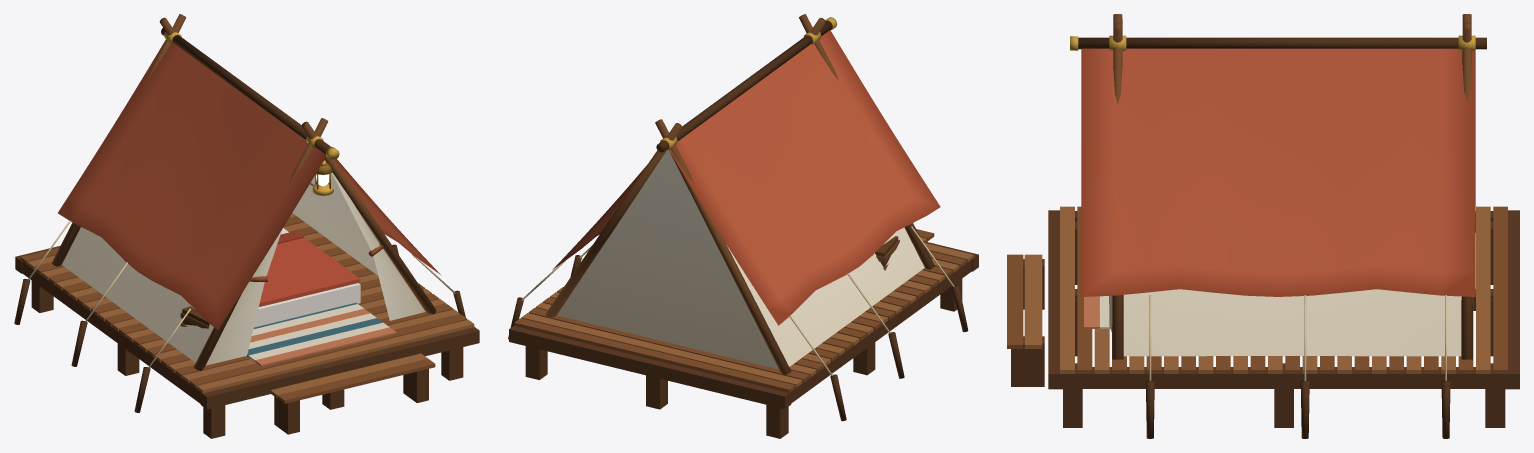
File: tent.glb
3 views of the same model, side by side, from view 1: azimuth 30°, elevation 25°; view 2: azimuth 150°, elevation 25°; view 3: azimuth 270°, elevation 25° (orthographic). The views are drawn at different scales.
Visible parts, largest first — view 1: TentCanvasBody, TentDeckPlatform, TentInteriorBedding, TentTimberFrame; view 2: TentCanvasBody, TentDeckPlatform, TentTimberFrame; view 3: TentCanvasBody, TentDeckPlatform, TentTimberFrame, TentInteriorBedding.
Boxes of the visible parts, x1=… form: TentCanvasBody: x1=58, y1=40, x2=441, y2=365; TentDeckPlatform: x1=15, y1=213, x2=479, y2=438; TentInteriorBedding: x1=180, y1=228, x2=396, y2=366; TentTimberFrame: x1=14, y1=14, x2=465, y2=412; TentCanvasBody: x1=552, y1=30, x2=940, y2=369; TentDeckPlatform: x1=509, y1=229, x2=978, y2=438; TentTimberFrame: x1=508, y1=14, x2=968, y2=421; TentCanvasBody: x1=1081, y1=48, x2=1475, y2=356; TentDeckPlatform: x1=1007, y1=206, x2=1519, y2=427; TentTimberFrame: x1=1070, y1=14, x2=1486, y2=438; TentInteriorBedding: x1=1084, y1=296, x2=1110, y2=328.
Size of the model in its own units: 3.37 by 2.62 by 3.64.
